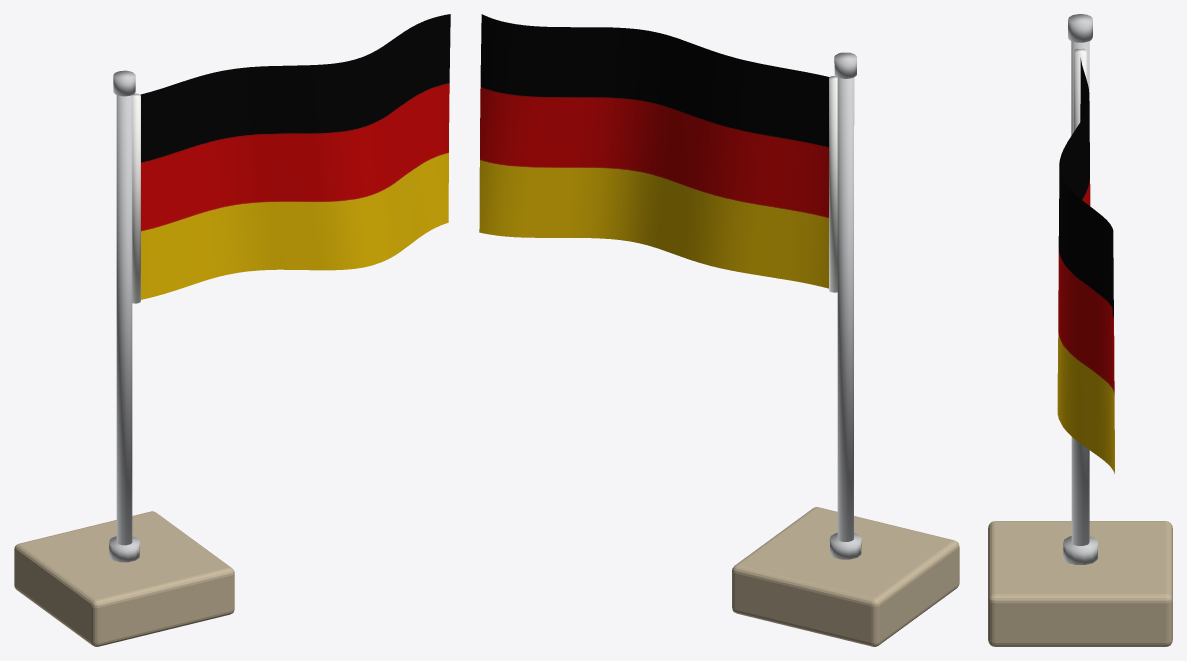
File: upm_mv3pr4dmcn.glb
The picture shows the model from 3 angles, left to right: view 1: azimuth 30°, elevation 25°; view 2: azimuth 150°, elevation 25°; view 3: azimuth 270°, elevation 25°; orthographic projection. The views are drawn at different scales.
Parts seen in each view (by area): view 1: flag, Cube, Cylinder, Cylinder.003; view 2: flag, Cube, Cylinder, Cylinder.003; view 3: Cube, flag, Cylinder, Cylinder.003.
Part boxes in pixels (box(x1,y1,x2,y2)): flag: box(140, 14, 450, 299); Cube: box(14, 511, 234, 646); Cylinder: box(109, 70, 139, 562); Cylinder.003: box(132, 93, 140, 303); flag: box(479, 14, 829, 288); Cube: box(732, 507, 959, 646); Cylinder: box(829, 52, 861, 559); Cylinder.003: box(829, 76, 837, 292); Cube: box(988, 521, 1172, 646); flag: box(1057, 58, 1114, 473); Cylinder: box(1063, 14, 1097, 564); Cylinder.003: box(1074, 48, 1086, 131).
Bounding box in the file's own units: 0.9213 × 1.13 × 0.32.
4 materials, 1 textured.
